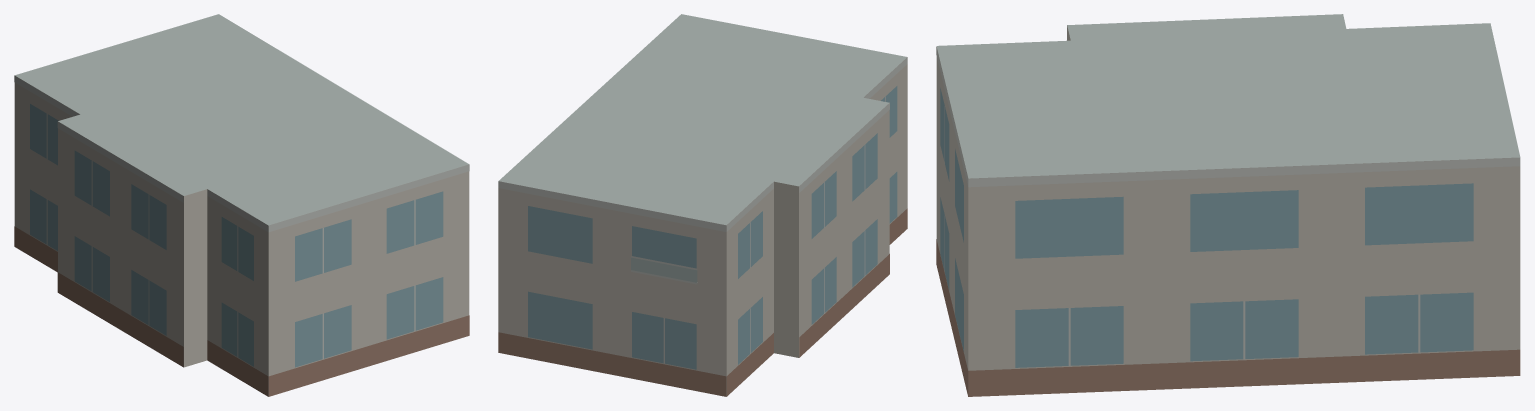
File: survey-upis-32702353.glb
3 views of the same model, side by side, from view 1: azimuth 30°, elevation 25°; view 2: azimuth 150°, elevation 25°; view 3: azimuth 270°, elevation 25° (orthographic). The views are drawn at different scales.
Parts seen in each view (by area): view 1: survey-upis-32702353.tmp; view 2: survey-upis-32702353.tmp; view 3: survey-upis-32702353.tmp.
Boxes of the visible parts, x1,y1,x2,y2 form: survey-upis-32702353.tmp: (14,14,469,396); survey-upis-32702353.tmp: (498,14,907,396); survey-upis-32702353.tmp: (936,14,1520,396).
Bounding box in the file's own units: 9.87 × 6.1 × 14.8.
